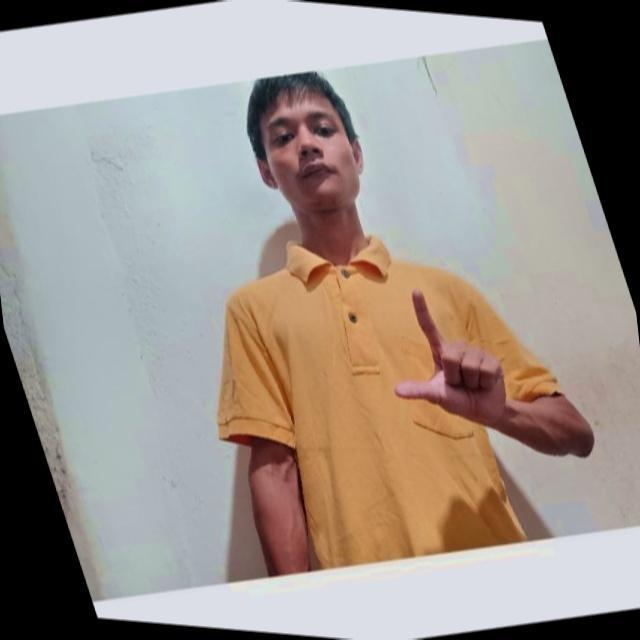L: (392, 286, 506, 424)
